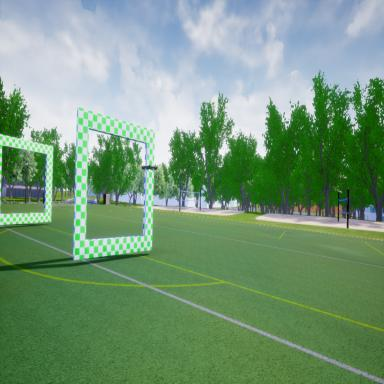gate: (70, 99, 156, 262), (0, 131, 56, 232)
